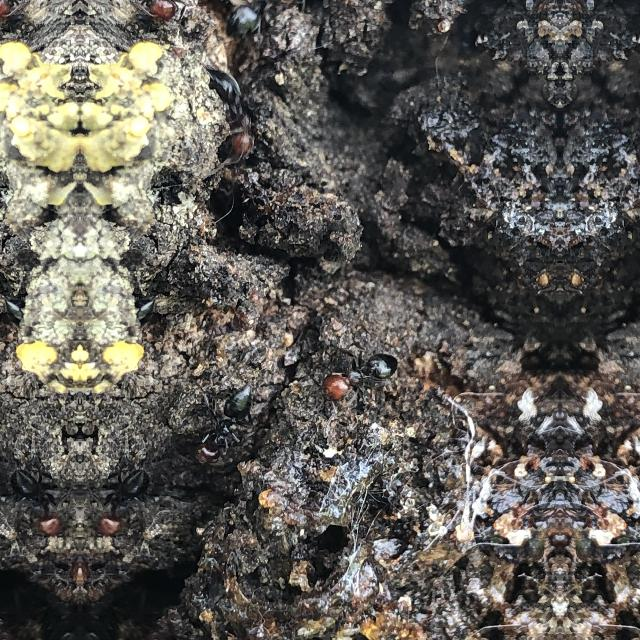Crematogaster: (195, 54, 262, 160), (190, 381, 260, 467), (318, 348, 402, 408), (92, 464, 154, 544), (6, 464, 68, 544), (144, 0, 210, 50), (212, 0, 294, 30), (0, 0, 16, 50)
